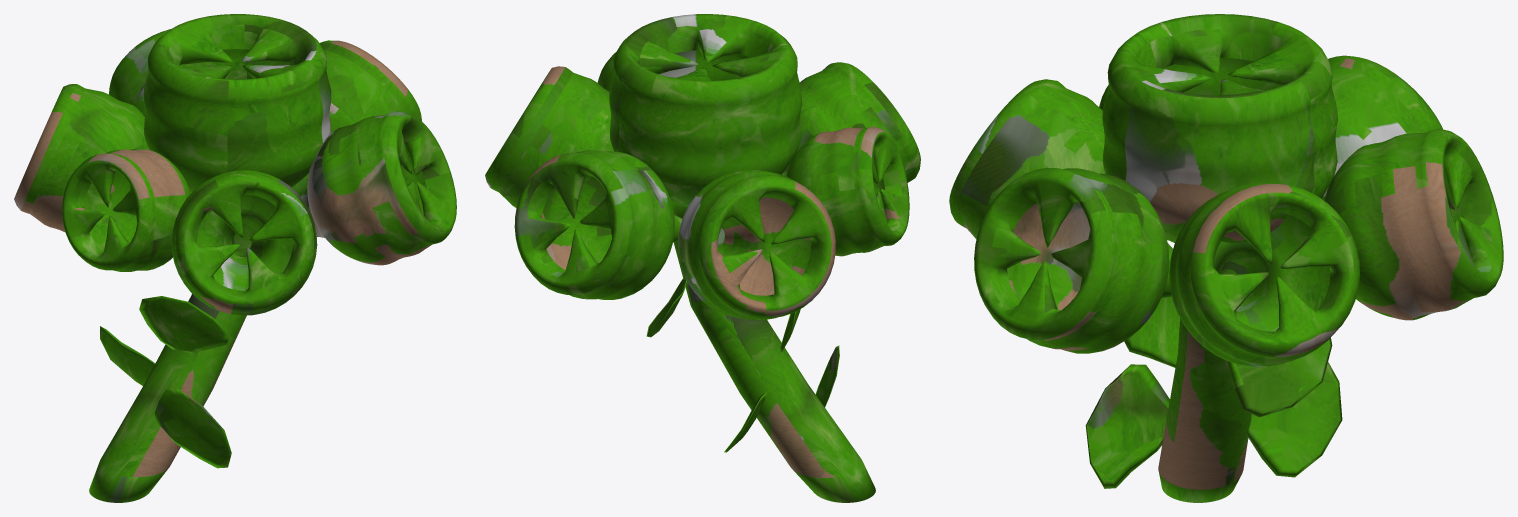
Rendered from EucaplteSeedText.fbx.
3 views of the same model, side by side, from view 1: azimuth 30°, elevation 25°; view 2: azimuth 150°, elevation 25°; view 3: azimuth 270°, elevation 25° (orthographic). The views are drawn at different scales.
Visible parts, largest first — view 1: pSphere11; view 2: pSphere11; view 3: pSphere11.
Part boxes in pixels (box(x1,y1,x2,y2)): pSphere11: box(14, 14, 456, 502); pSphere11: box(485, 14, 920, 502); pSphere11: box(949, 14, 1503, 502).
Size of the model in its own units: 11.86 by 12.66 by 12.53.
